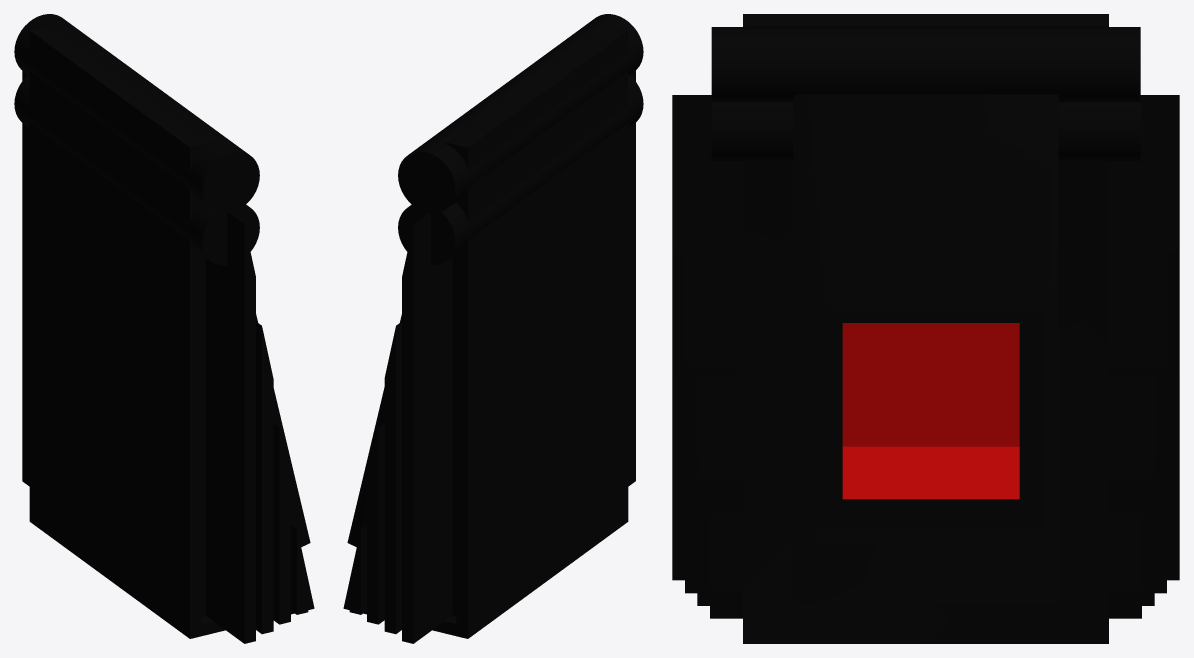
The model's file is genHolder.fbx.
3 views of the same model, side by side, from view 1: azimuth 30°, elevation 25°; view 2: azimuth 150°, elevation 25°; view 3: azimuth 270°, elevation 25° (orthographic). The views are drawn at different scales.
Parts seen in each view (by area): view 1: Cube, Cylinder, Cylinder_1; view 2: Cube, Cylinder, Cylinder_1; view 3: Cube, Cube_2, Cylinder, Cylinder_1.
Part boxes in pixels (x1,y1,x2,y2): Cube: (22,25,314,643); Cylinder: (14,14,259,213); Cylinder_1: (14,75,259,265); Cube: (343,25,635,643); Cylinder: (398,14,643,213); Cylinder_1: (398,75,643,265); Cube: (672,14,1179,643); Cube_2: (842,323,1019,499); Cylinder: (711,27,1140,102); Cylinder_1: (711,102,1140,161).
Size of the model in its own units: 75.18 by 245 by 201.
